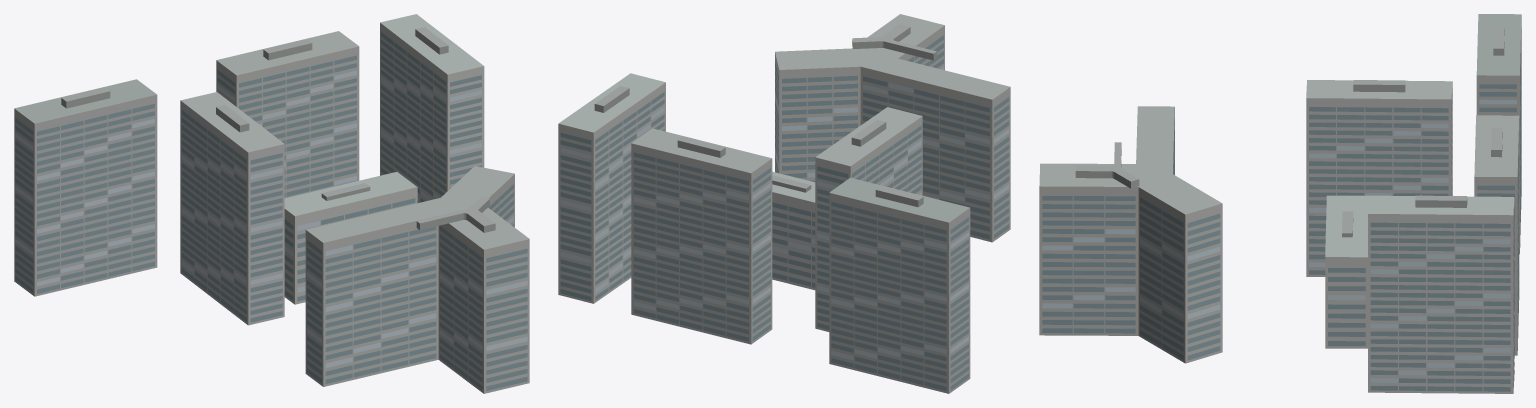
Rendered from apt-a15681106.glb.
The picture shows the model from 3 angles, left to right: view 1: azimuth 30°, elevation 25°; view 2: azimuth 150°, elevation 25°; view 3: azimuth 270°, elevation 25°; orthographic projection. The views are drawn at different scales.
Parts seen in each view (by area): view 1: apt-a15681106; view 2: apt-a15681106; view 3: apt-a15681106.
Part boxes in pixels (x1,y1,x2,y2): apt-a15681106: (14,14,529,393); apt-a15681106: (558,14,1010,393); apt-a15681106: (1039,14,1521,393).
Bounding box in the file's own units: 144 × 62 × 146.
